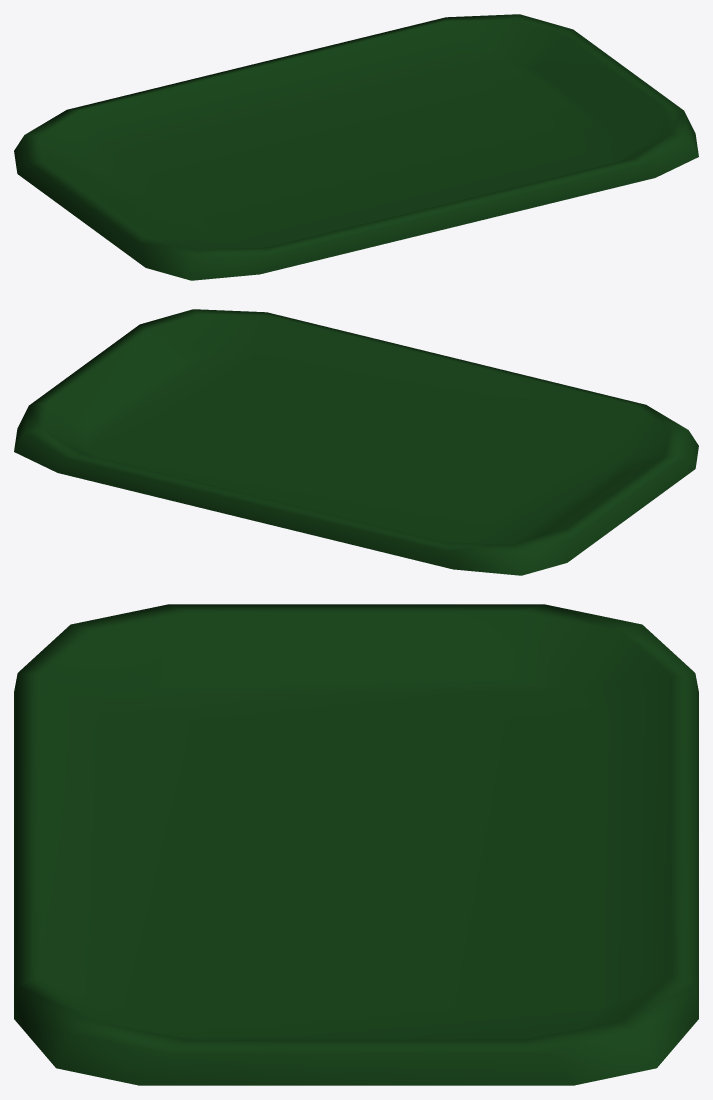
File: LauBoxB2Cap.FBX
3 views of the same model, one above another, from view 1: azimuth 30°, elevation 25°; view 2: azimuth 150°, elevation 25°; view 3: azimuth 270°, elevation 25° (orthographic). The views are drawn at different scales.
Visible parts, largest first — view 1: LauBoxB2Cap_LOD0; view 2: LauBoxB2Cap_LOD0; view 3: LauBoxB2Cap_LOD0.
Part boxes in pixels (<box>): LauBoxB2Cap_LOD0: <box>14,14,698,280</box>; LauBoxB2Cap_LOD0: <box>14,309,698,575</box>; LauBoxB2Cap_LOD0: <box>14,604,698,1085</box>.
Size of the model in its own units: 43.94 by 28 by 1.7.
